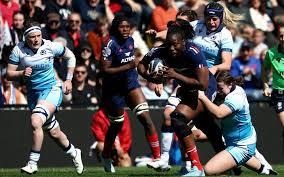ballon_rugby: (147, 56, 166, 81)
